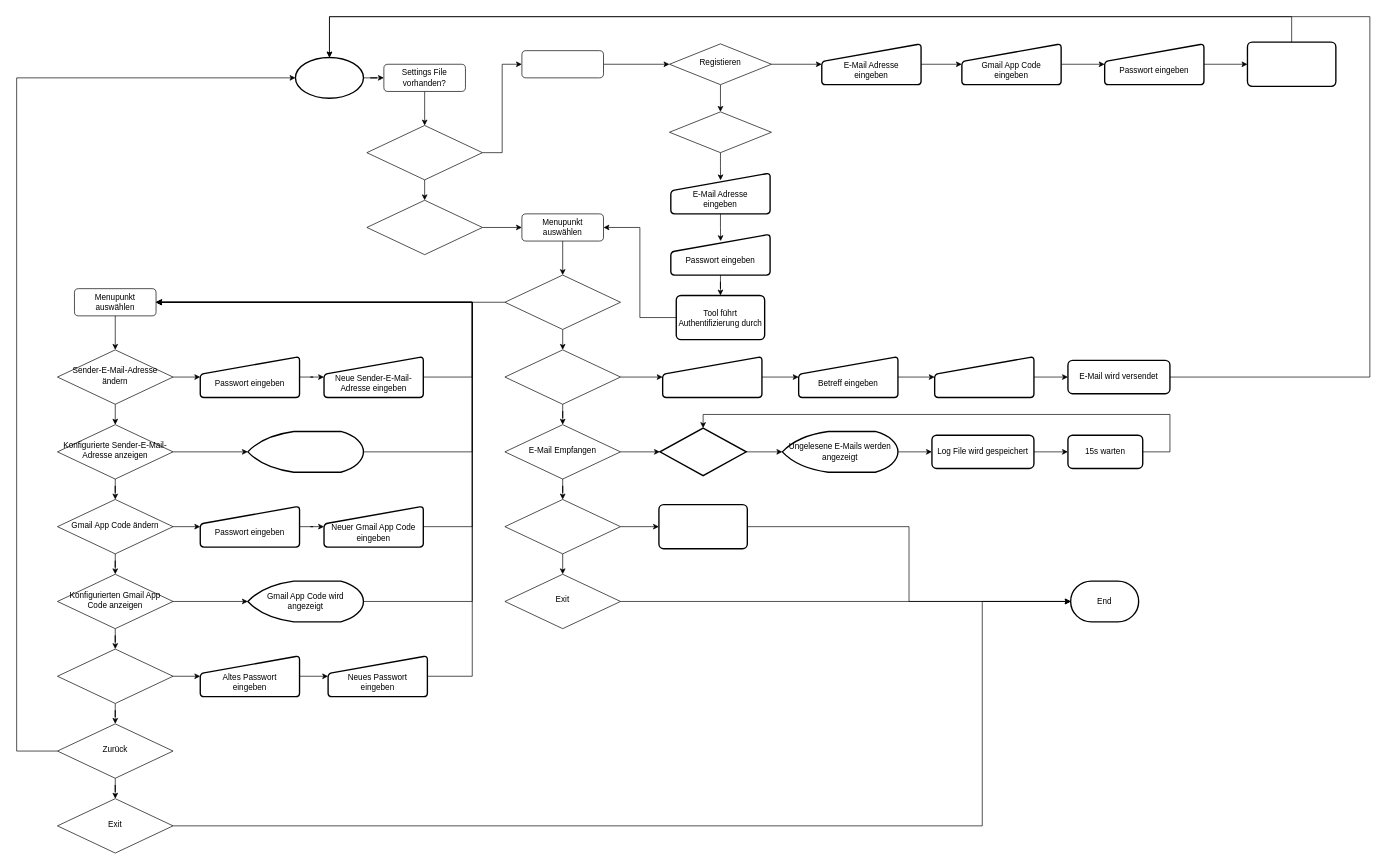
This 1387x865 diagram has some shape labels left out. Here are the shapes that lost their labels. From the top down, the box of each, then its label:
(294, 56, 364, 99): Start
(521, 50, 604, 78): Registrieren oder Login
(1246, 41, 1336, 87): Tool speichert die Daten ab.
(669, 111, 771, 153): Login
(366, 125, 482, 180): Nein
(366, 200, 482, 255): Ja
(504, 274, 620, 329): Einstellungen
(504, 349, 620, 404): E-Mail Senden
(662, 356, 762, 398): Empfänger-E-Mail-Adresse eingeben
(934, 356, 1034, 398): Nachricht eingeben
(247, 430, 364, 473): Sender-E-Mail-Adresse wird angezeigt
(659, 427, 747, 476): while True
(504, 499, 620, 554): Logout
(658, 504, 748, 549): Settings File wird gelöscht
(57, 648, 173, 703): Passwort ändern
